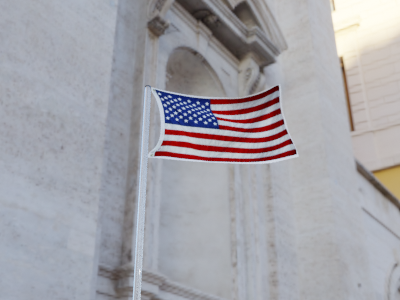America flag: (153, 82, 300, 163)
